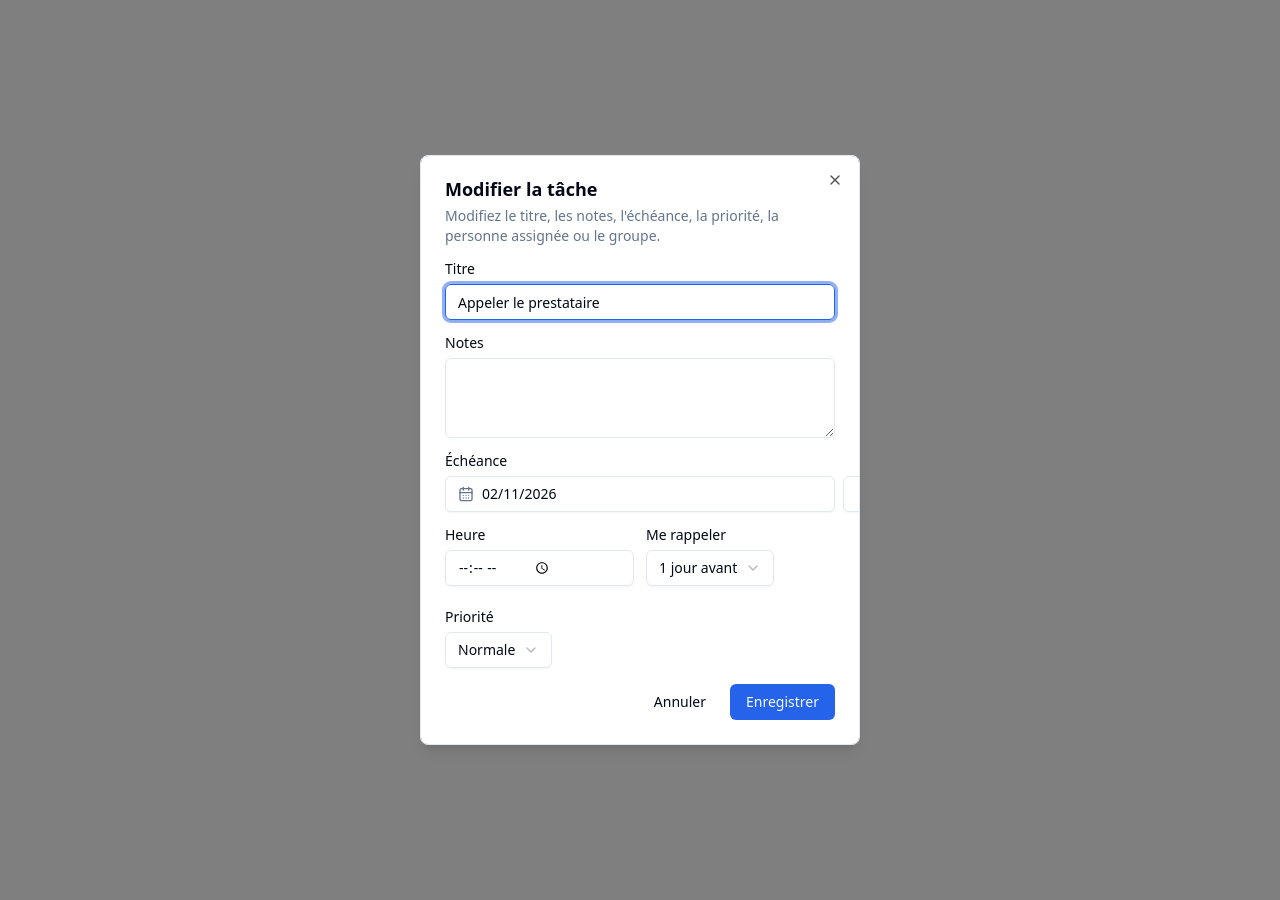
Test: TodoEditDialog › does not allow saving an empty title
Clear the field labelled "Titre" at (640, 302), box [445,284,835,320]
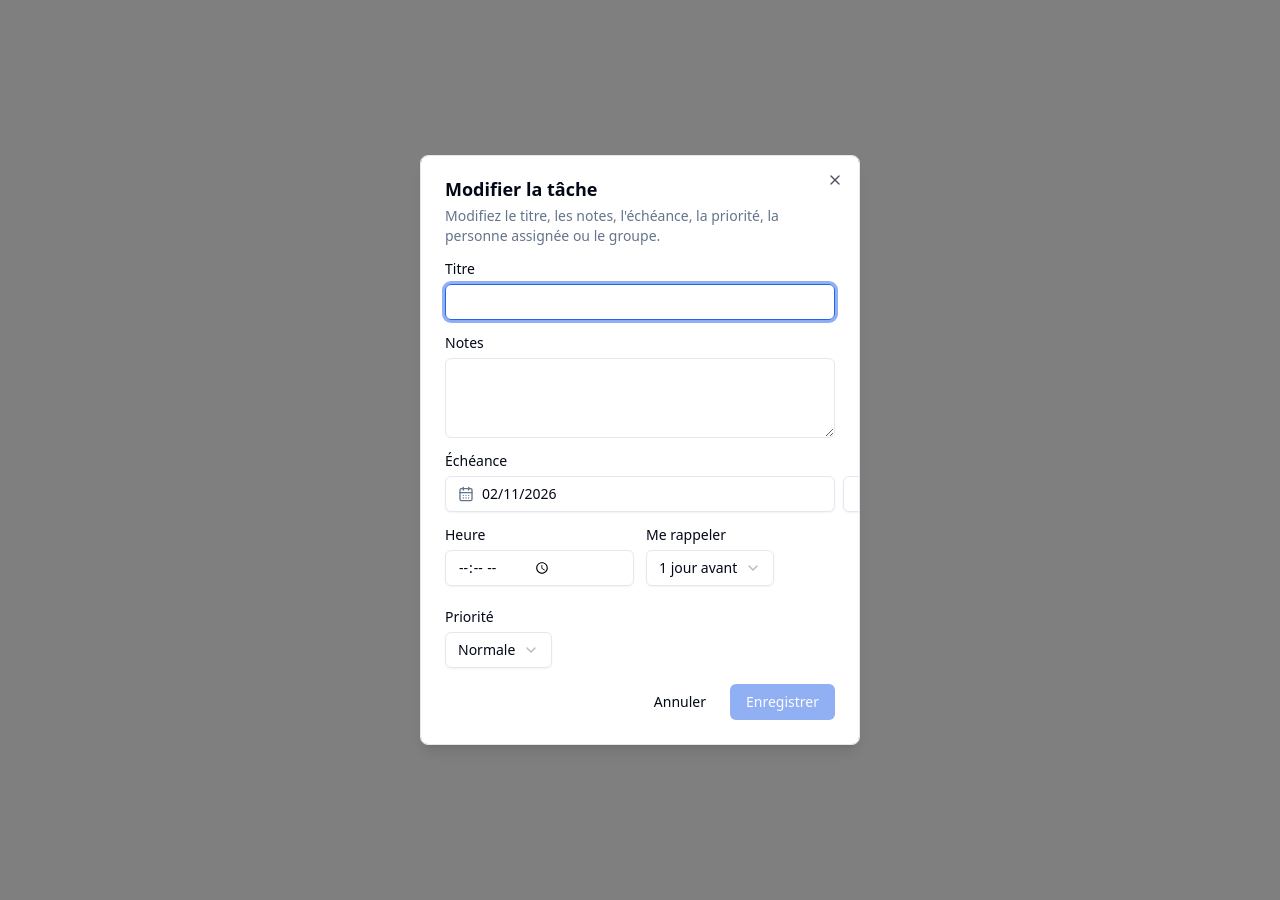
Check: the button "Enregistrer" is disabled, box [730,684,835,720]
